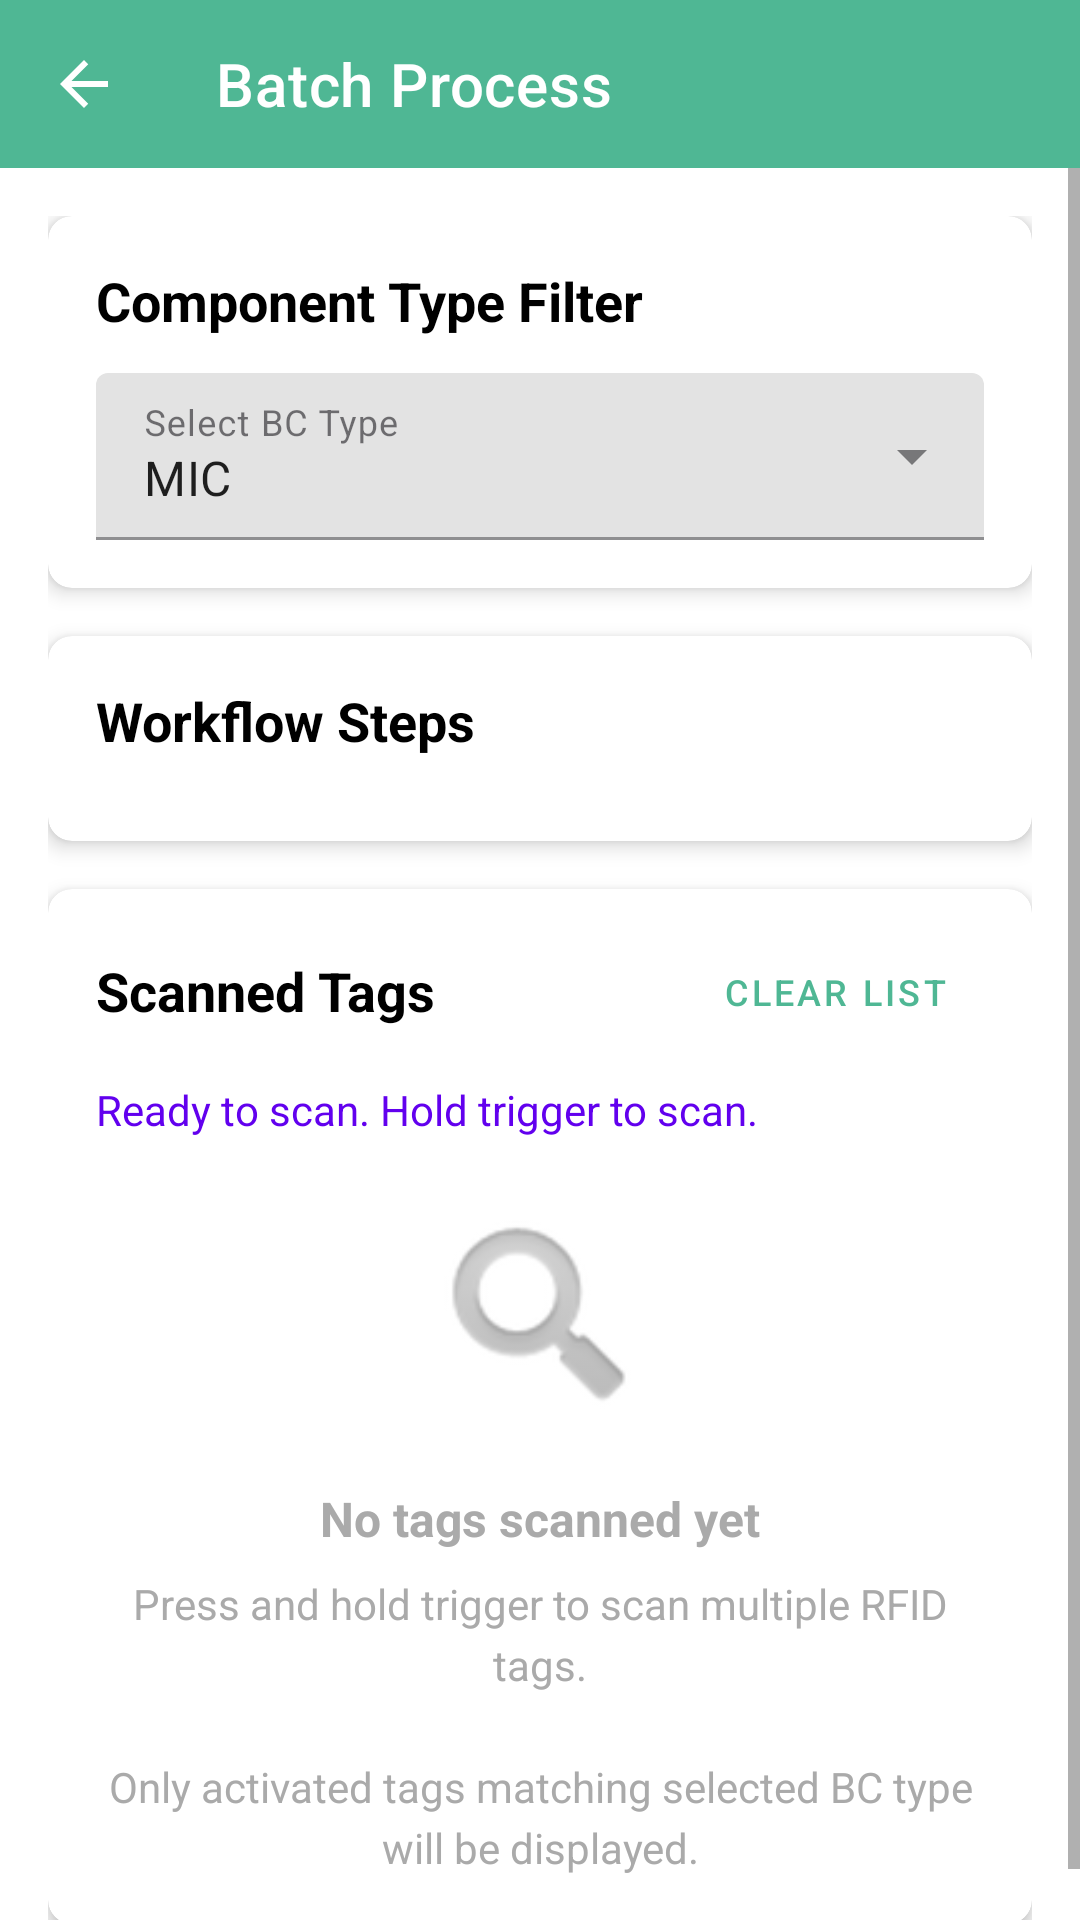

Point at icon controls on the screen. Image size 1080×1920, points as point (x, y).
search category: point (539, 1313)
